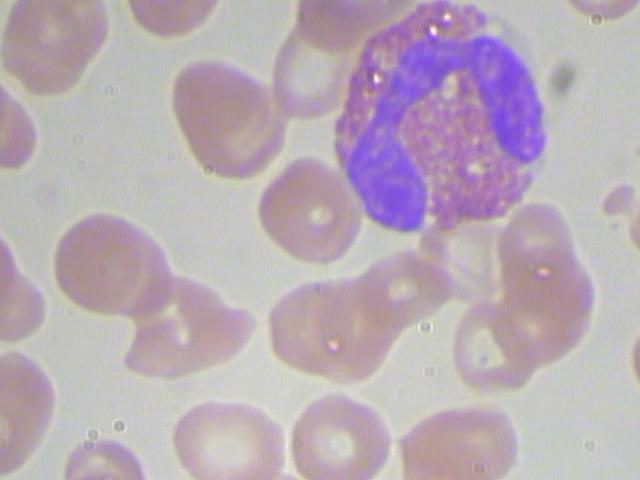RBC: (256, 154, 367, 263), (396, 384, 522, 479), (156, 55, 272, 157), (169, 384, 289, 480), (285, 384, 400, 480), (47, 204, 146, 313), (1, 1, 102, 99), (454, 304, 537, 390)
